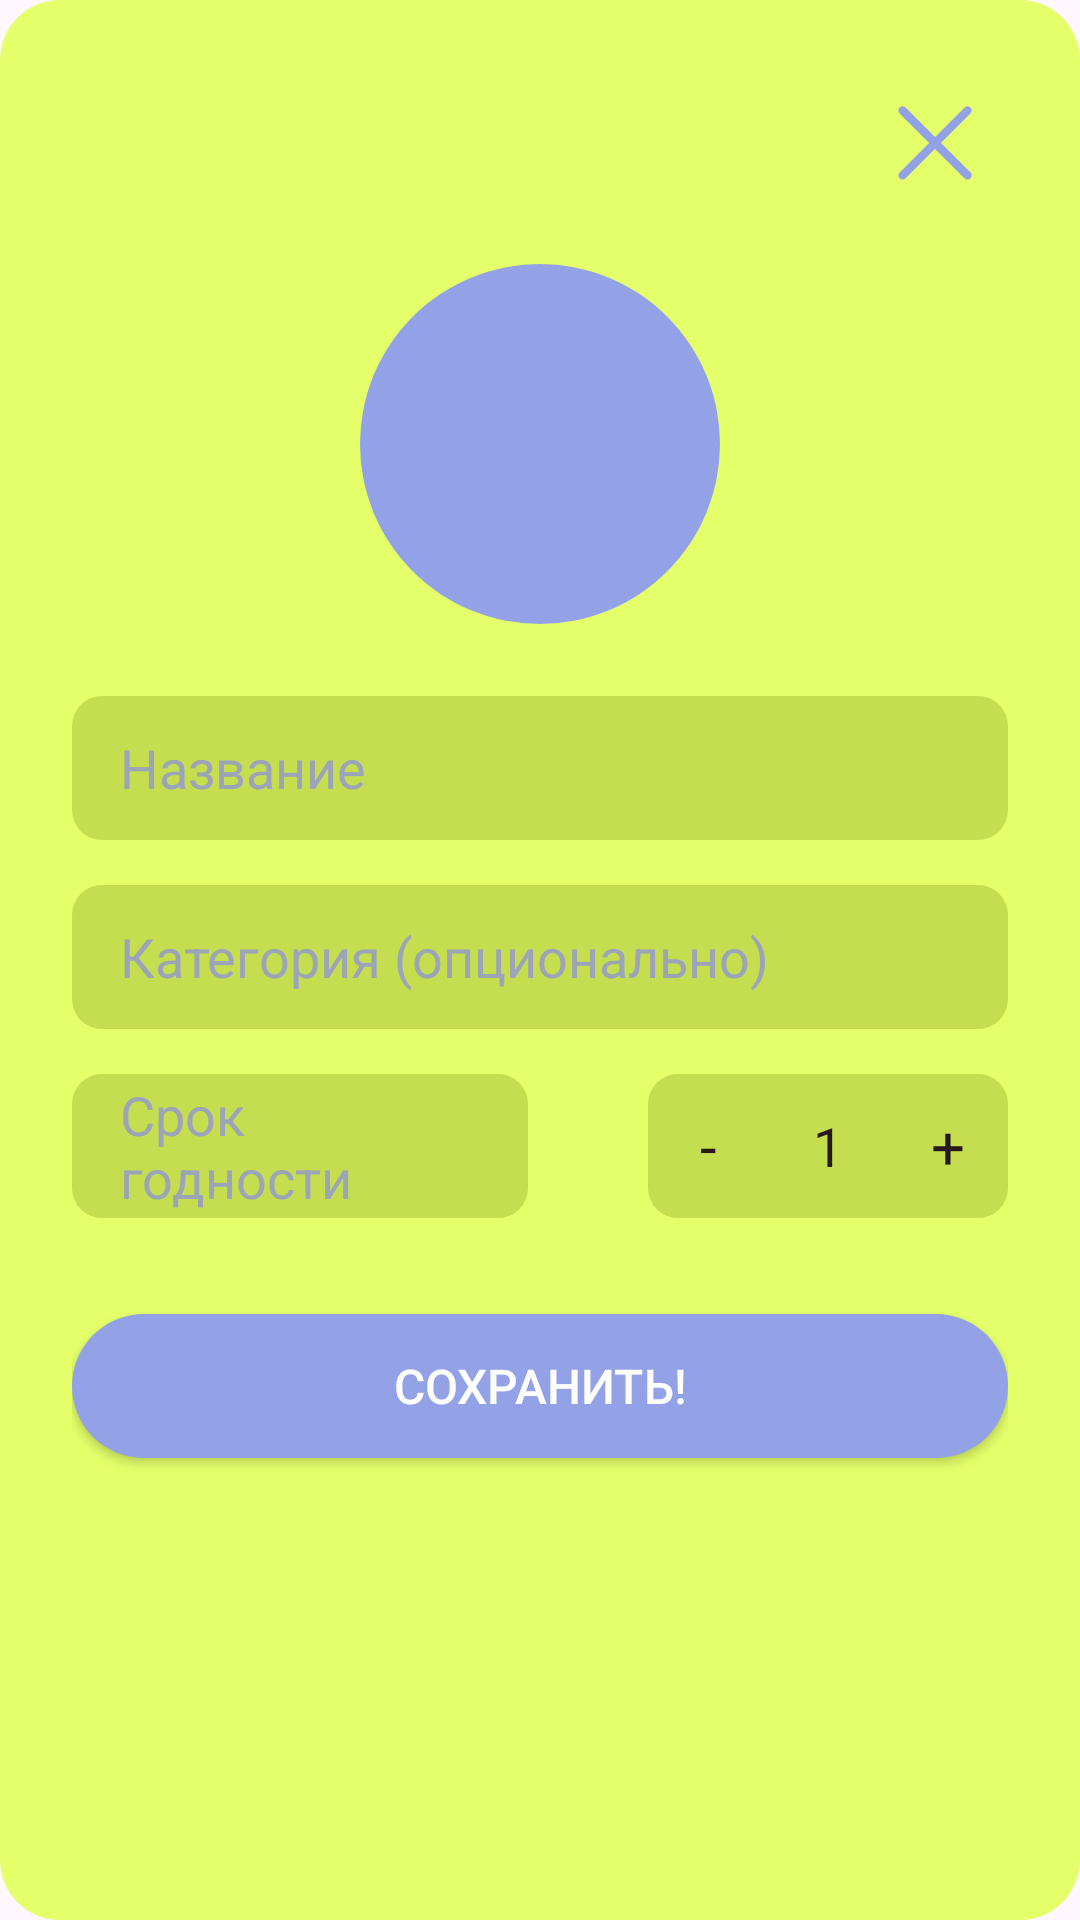

Screen size 1080x1920. Icon name, then its box in pixels as region(x1, y1, x2, y2):
close: region(898, 106, 972, 180)
